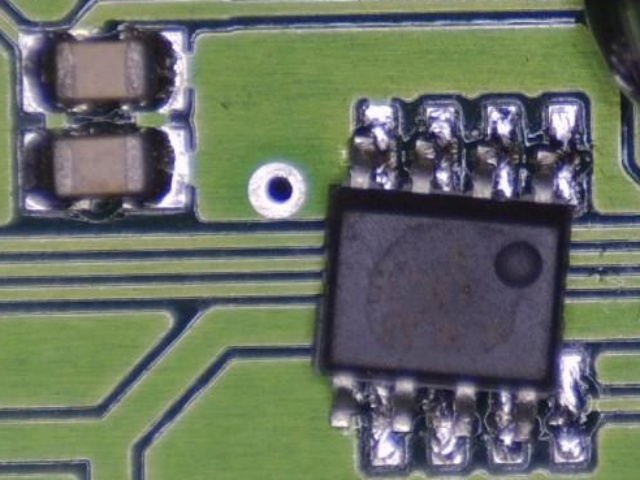pcb_defect: (311, 99, 590, 472)
